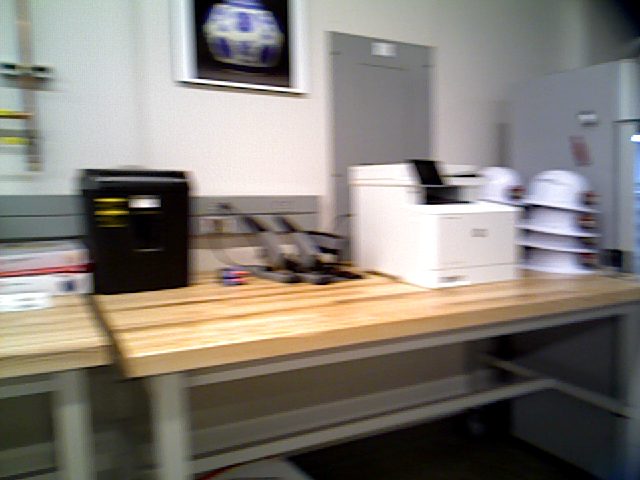painting2: (177, 1, 311, 97)
